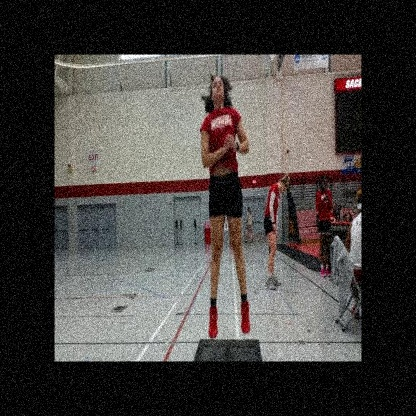lateral_flexion_right: (199, 73, 252, 340)
stance_width_normal: (199, 105, 252, 341)
